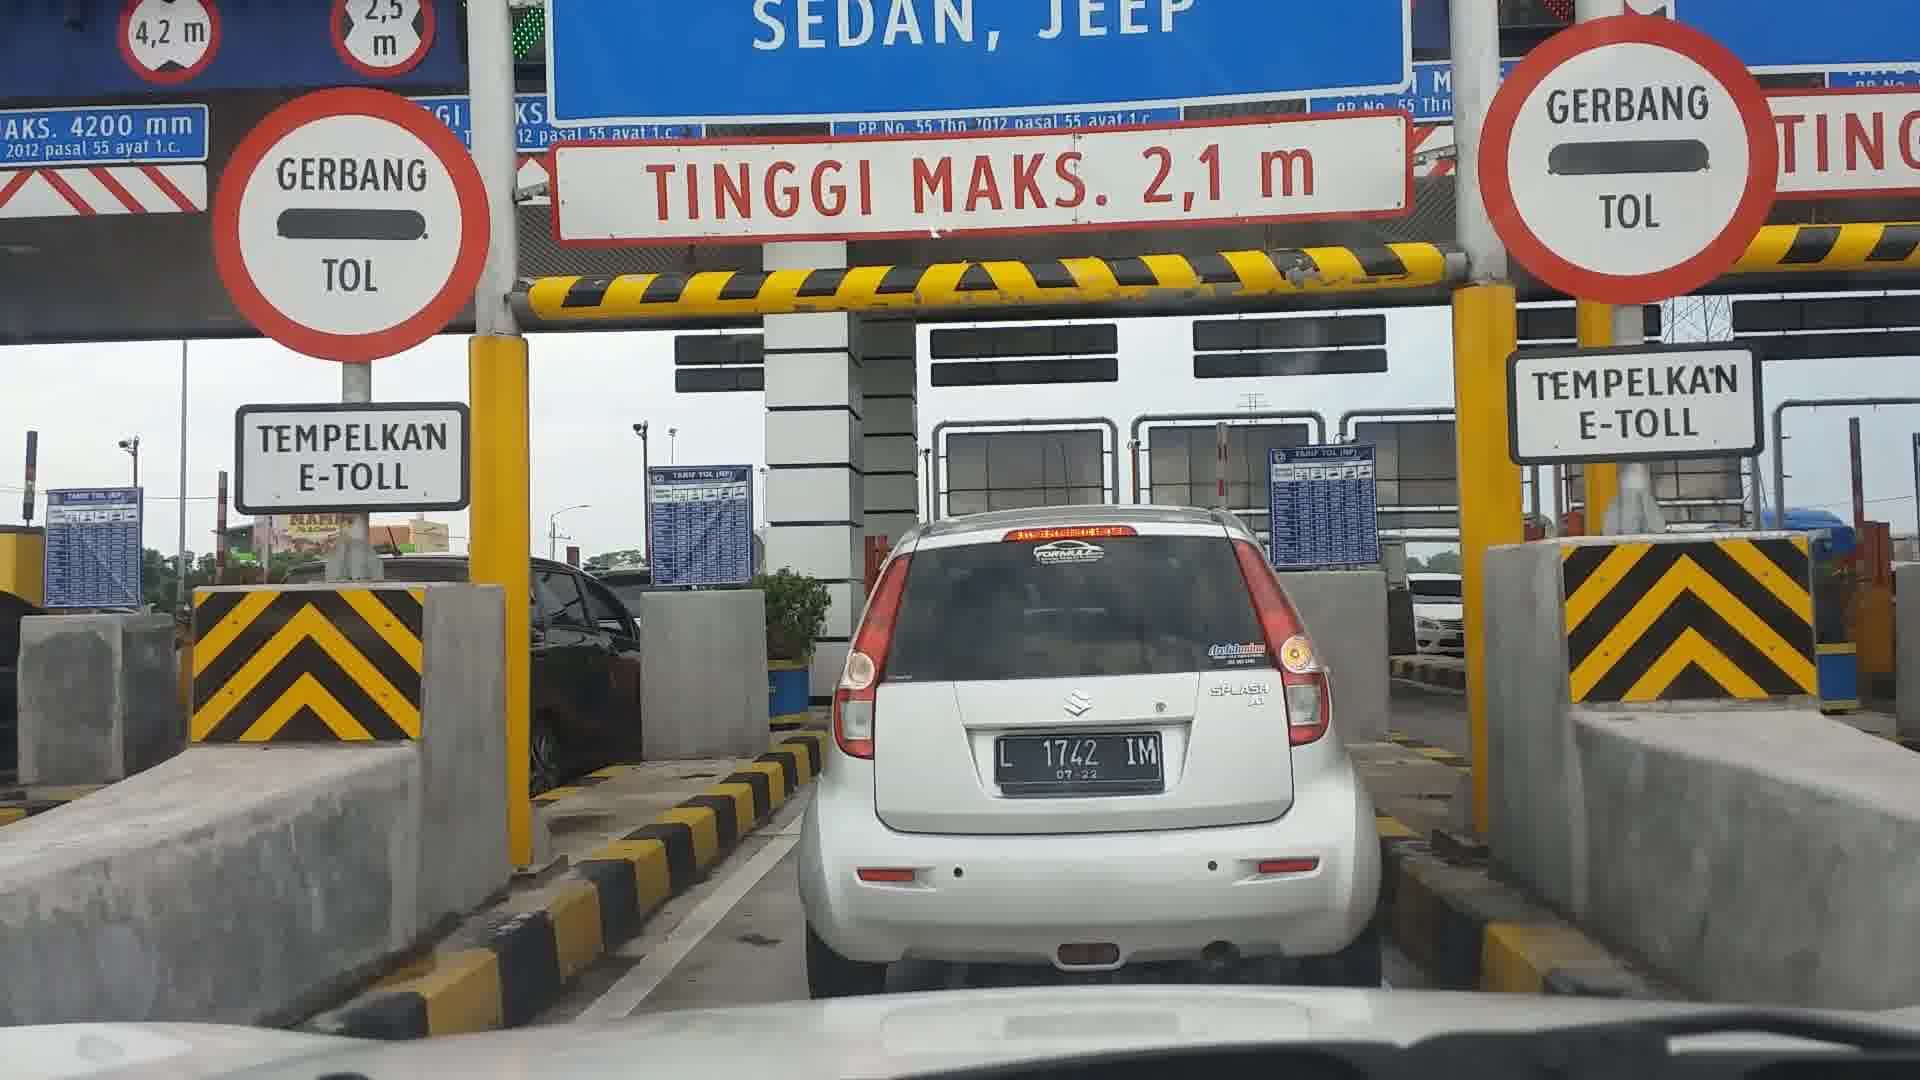plate_positive: (996, 732, 1163, 796)
